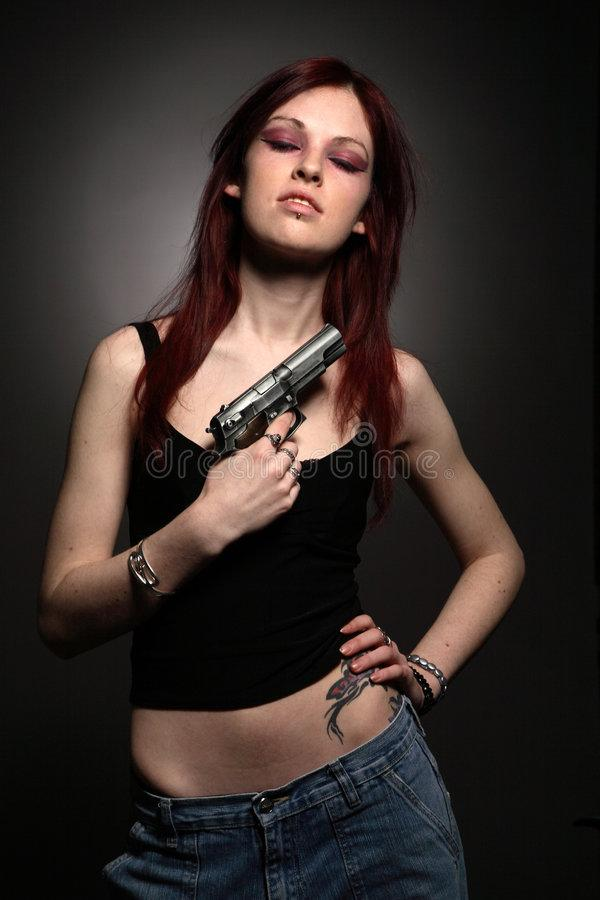criminal: (47, 50, 528, 900)
weapon: (200, 320, 356, 463)
